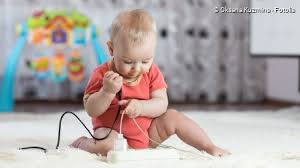child: (69, 7, 236, 160)
